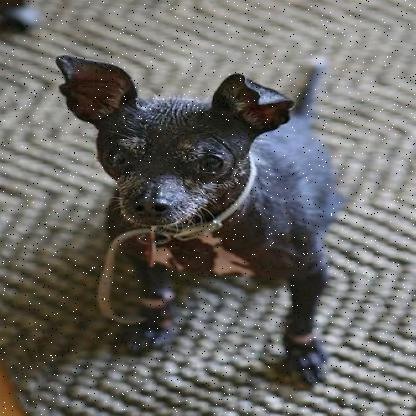dog: (48, 45, 364, 390)
